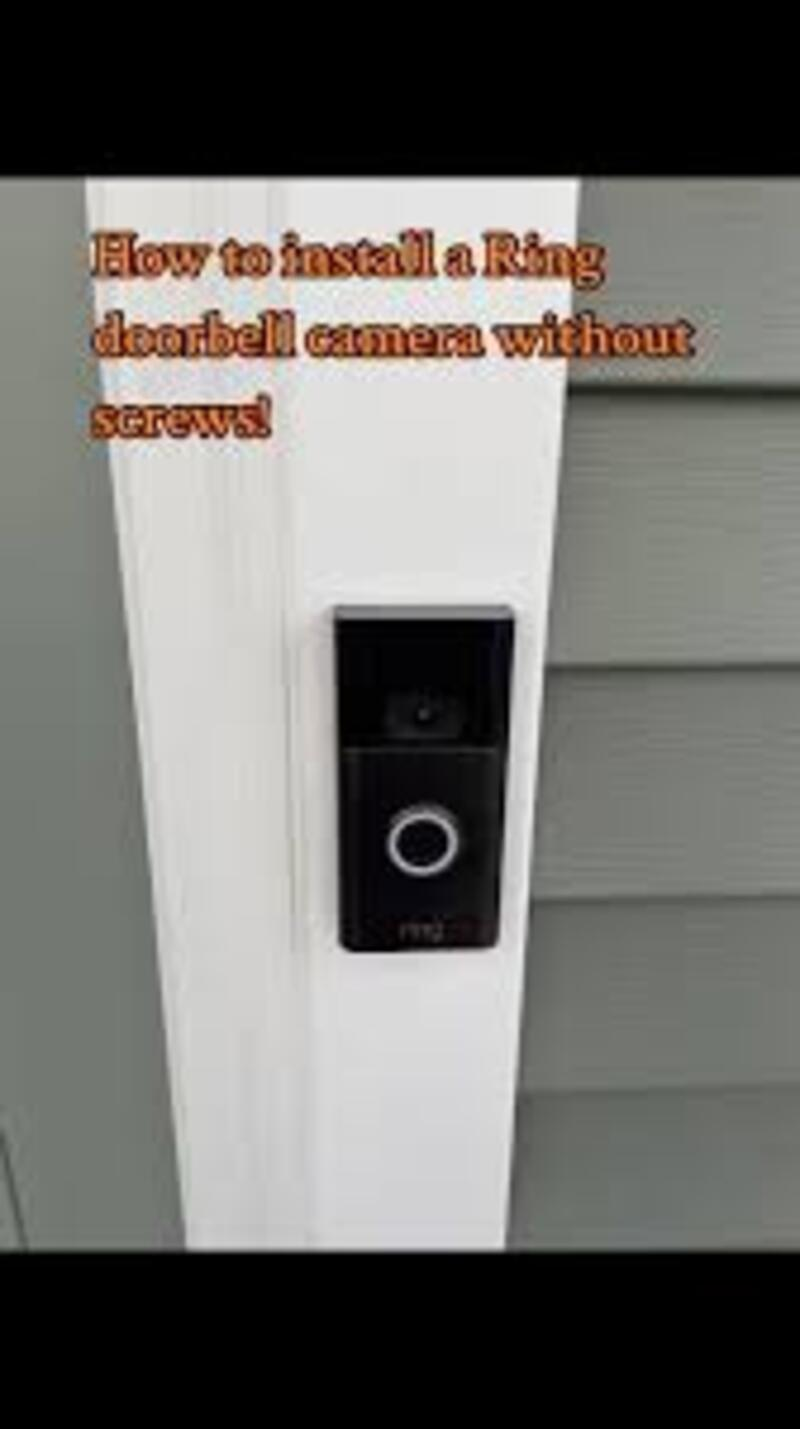doorbell: (316, 577, 518, 970)
